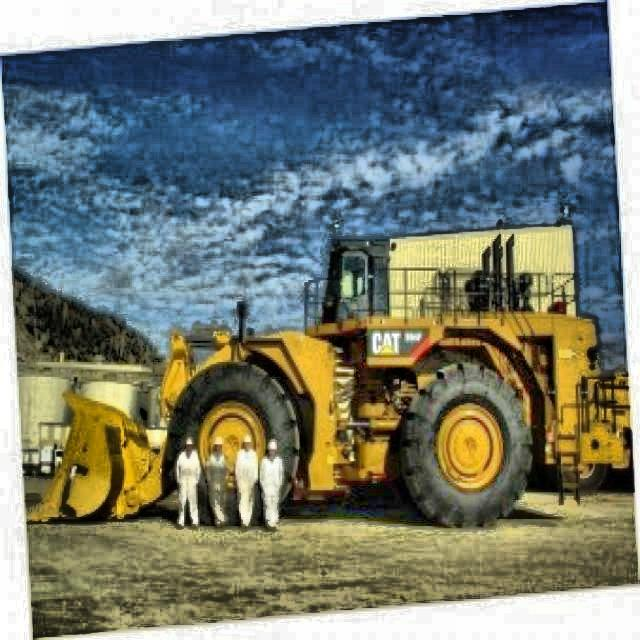bull_dozer/loader/grader: (28, 236, 636, 536)
person: (176, 434, 202, 530), (206, 436, 231, 529), (236, 434, 260, 530), (260, 440, 284, 530)
